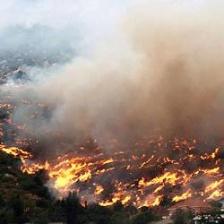fire: (26, 148, 224, 213)
smoke: (25, 14, 219, 132)
